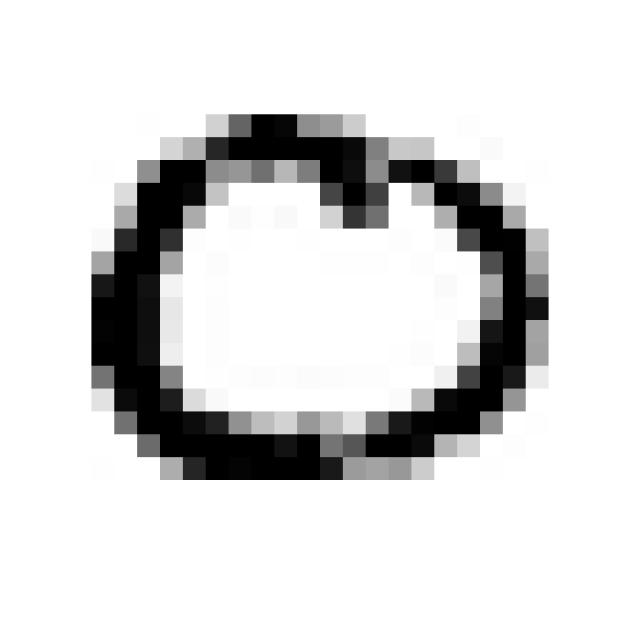5 -five-: (78, 103, 558, 495)
